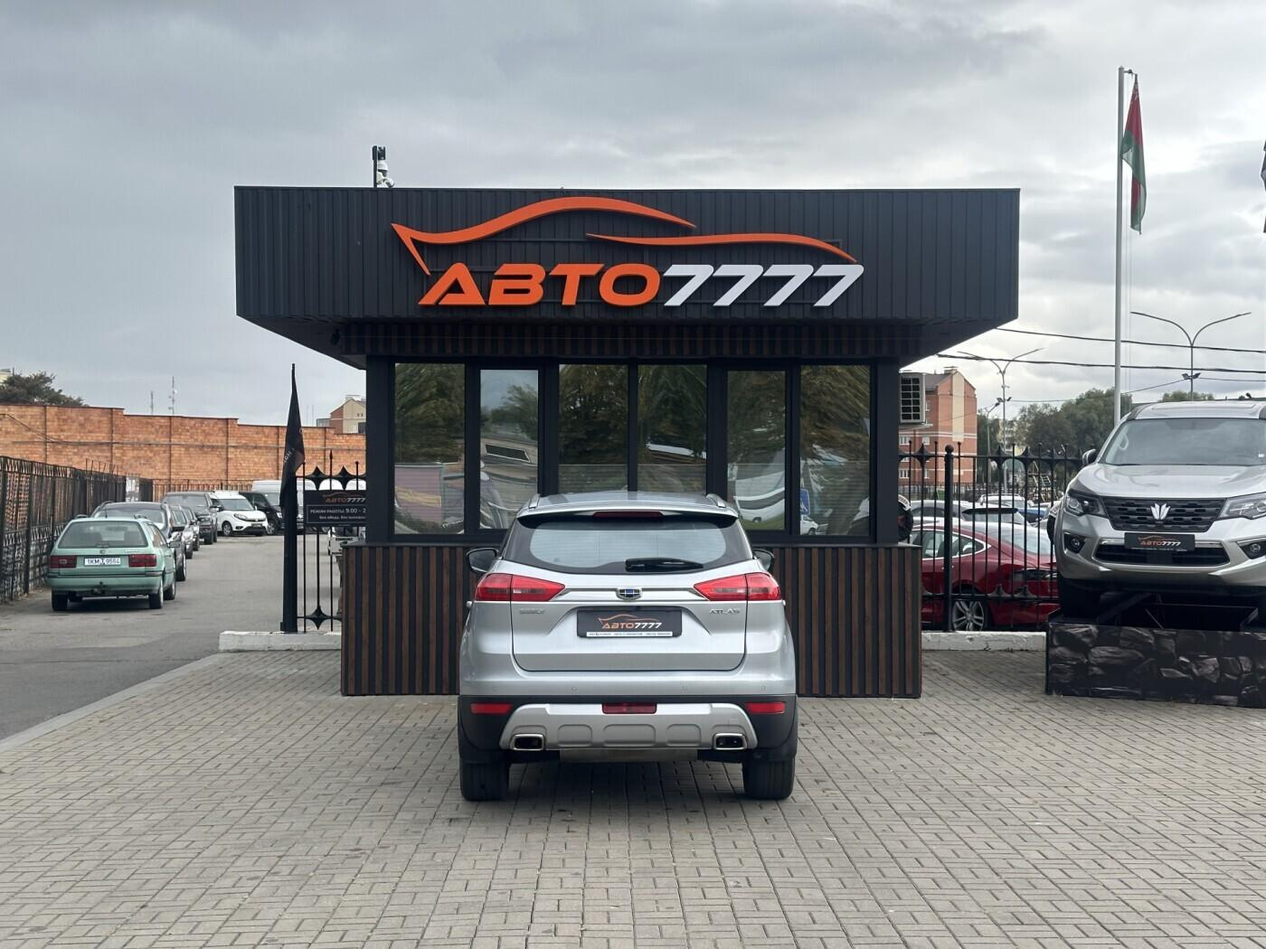Atlas_2016-2023: (448, 491, 810, 815)
